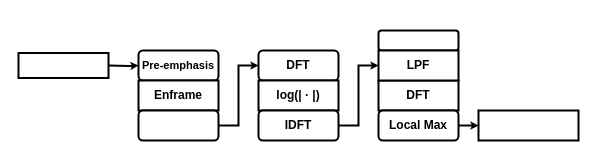
Image size: 596x165. Some labels were removed from this diagram. The centre of each missing label's shape, as x and y in pixels:
"Input x(n)" goes at pixel 63 65.
"LP FIR Win" goes at pixel 418 40.
"Output Formant" goes at pixel 528 125.
"VAD" goes at pixel 178 125.
